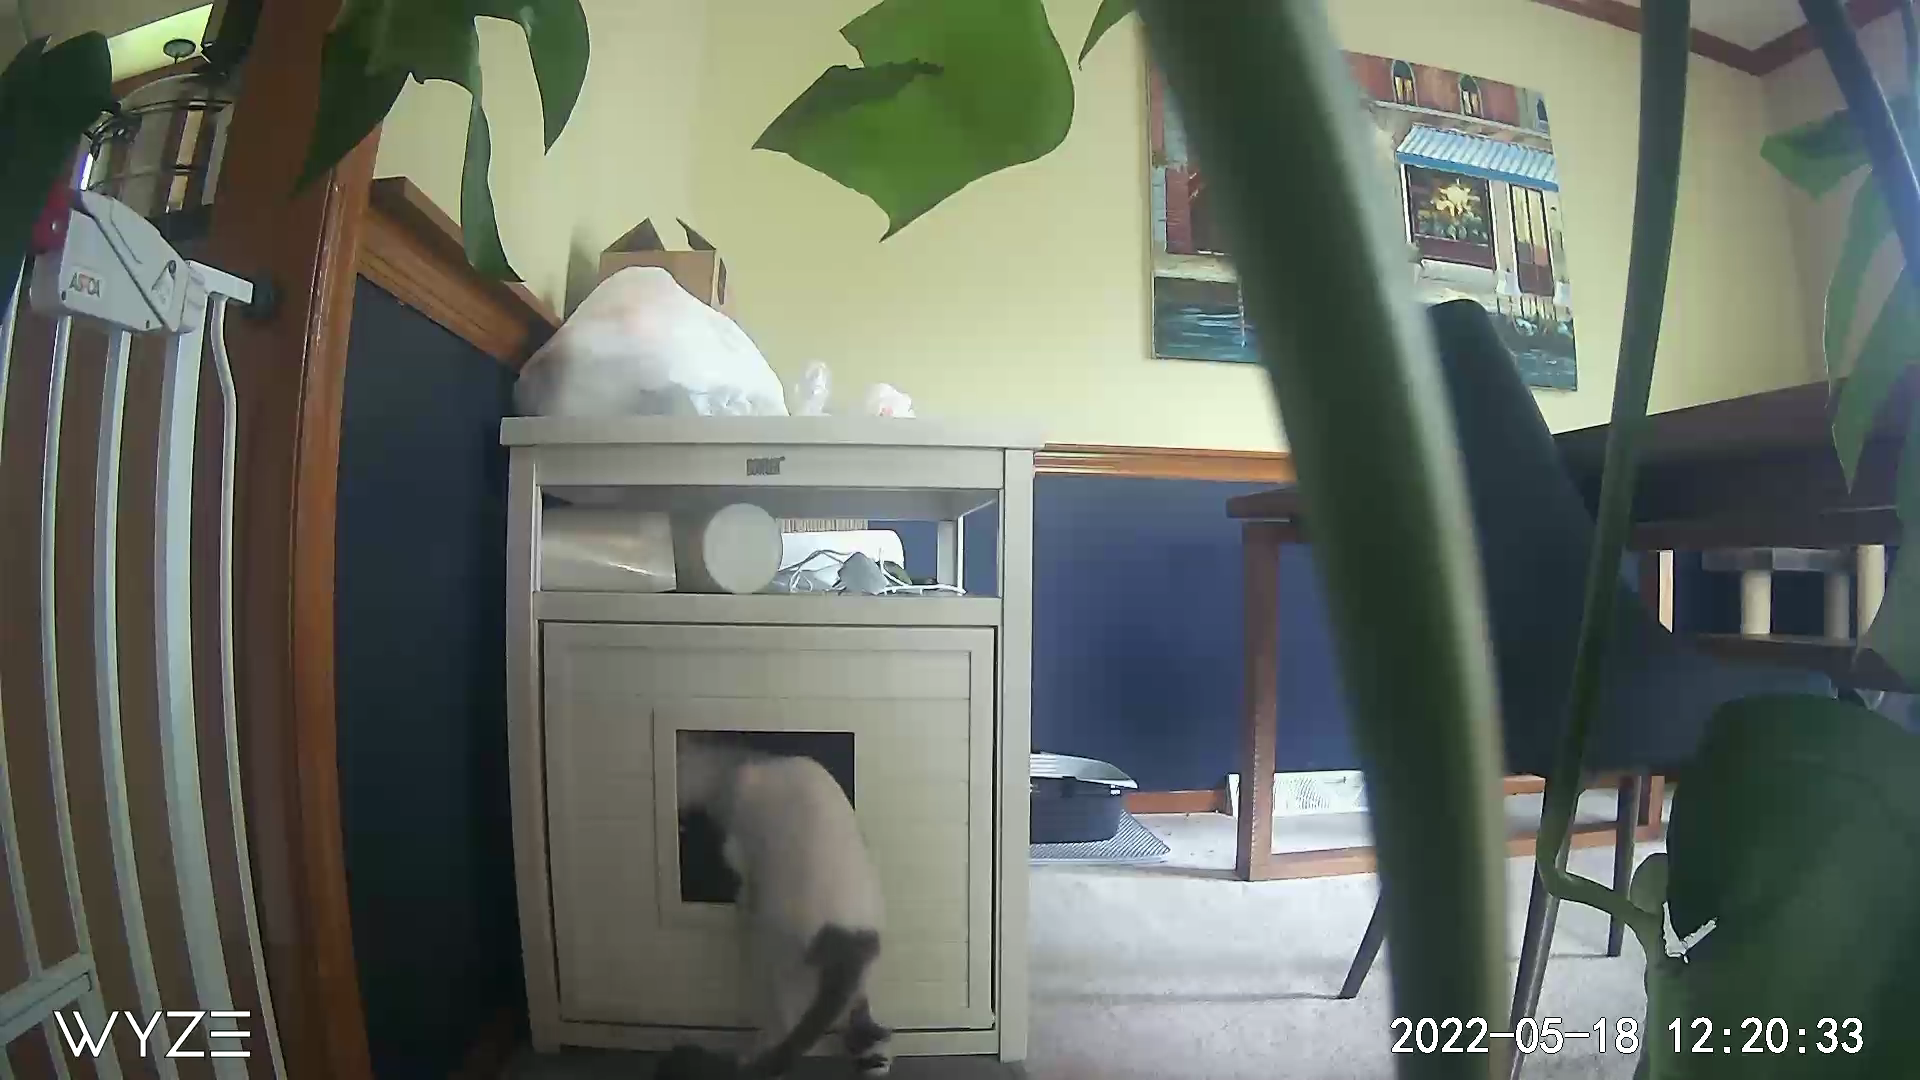maoxin: (671, 738, 899, 1080)
